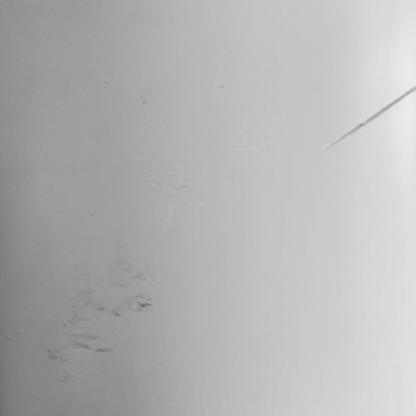sunshang: (321, 88, 416, 152)
